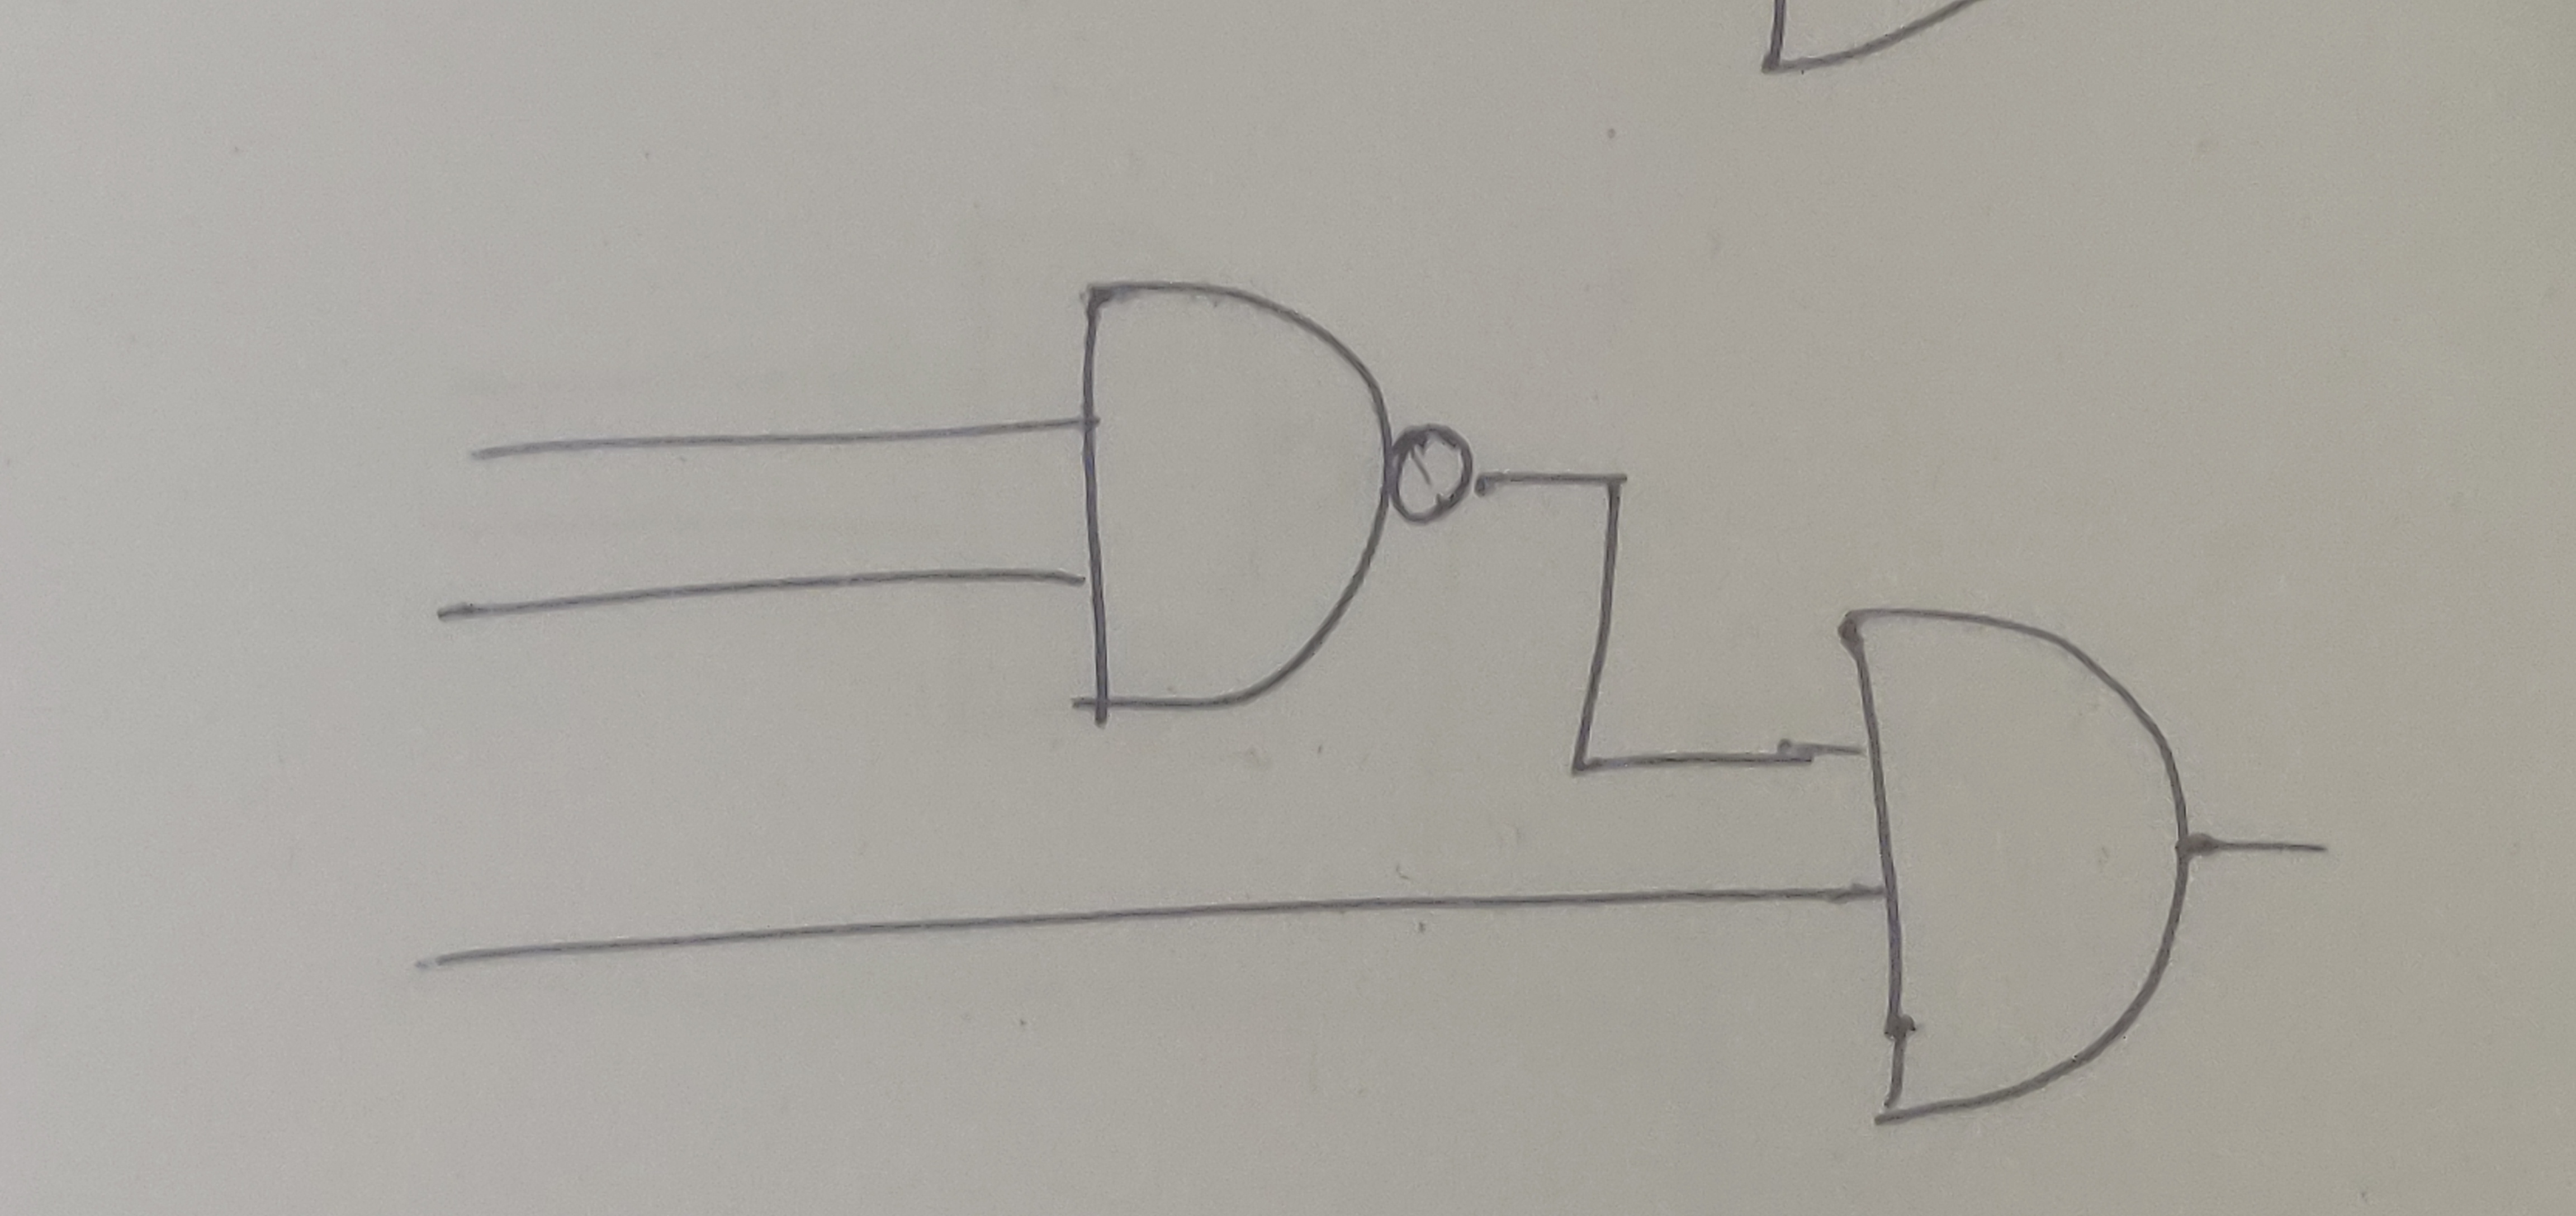and: (1837, 598, 2201, 1134), (1078, 276, 1396, 726)
not: (1387, 417, 1485, 542)
